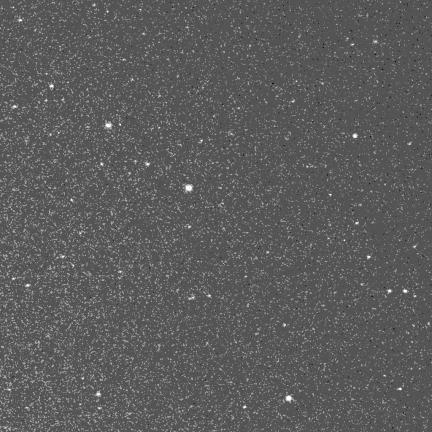blob: (185, 184, 193, 192), (106, 122, 113, 129), (286, 396, 292, 401), (353, 133, 358, 138), (50, 84, 54, 90), (100, 162, 104, 167), (387, 289, 392, 293), (243, 405, 247, 410), (403, 289, 407, 293), (96, 392, 100, 396), (146, 162, 150, 166), (25, 284, 30, 287), (12, 277, 16, 280), (367, 256, 371, 259), (397, 388, 402, 390), (356, 222, 359, 224)
